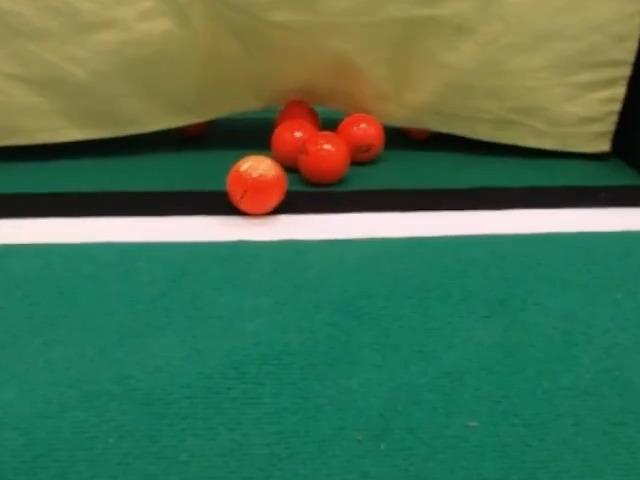Ball: (226, 154, 287, 215), (298, 131, 350, 185), (336, 113, 385, 163), (270, 118, 318, 169), (275, 100, 320, 128)
